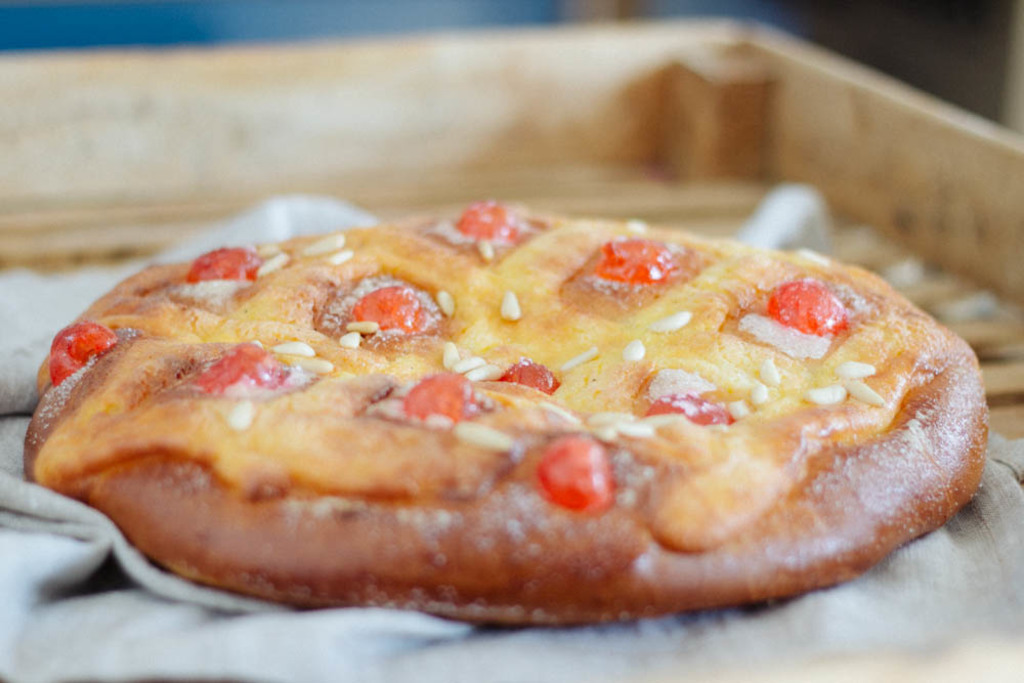Pizza: (41, 198, 994, 635)
